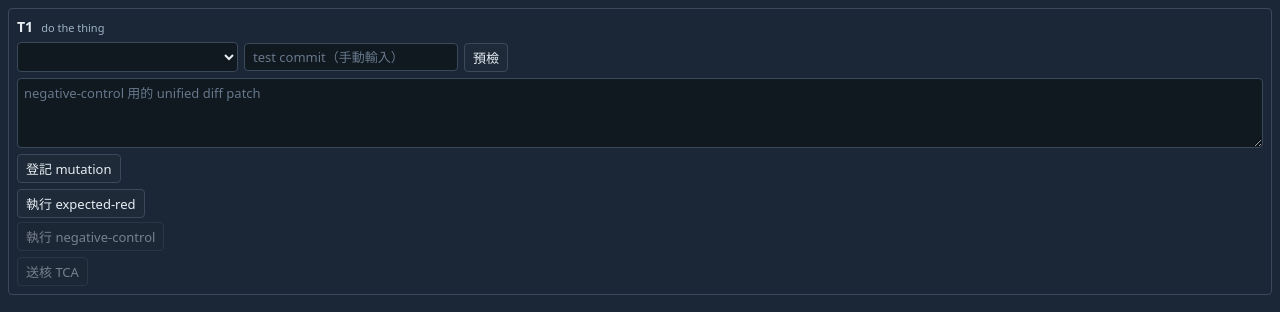
TcaWorkspace › 預檢失敗顯示錯誤原文
The width and height of the screenshot is (1280, 312).
In the field with test id "test-commit-input-T1": [351, 57] box [244,43,458,71], type "cafebabe"
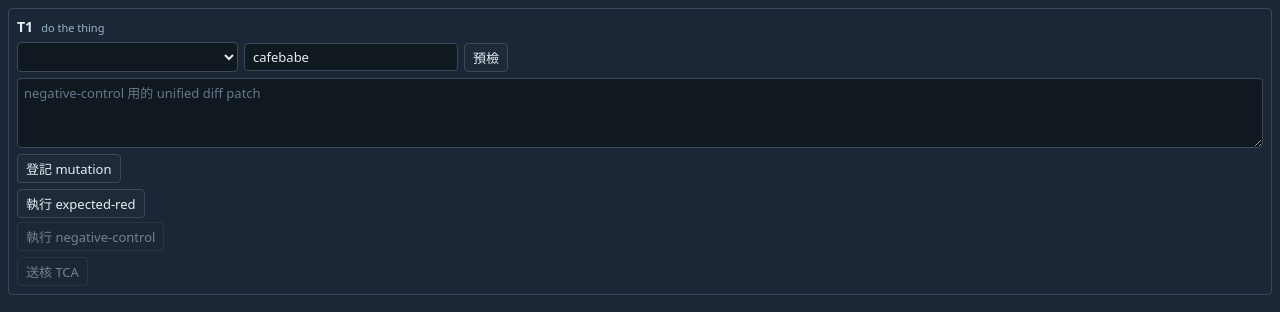
Click the button with test id "precheck-T1": [486, 57] box [464,42,508,72]
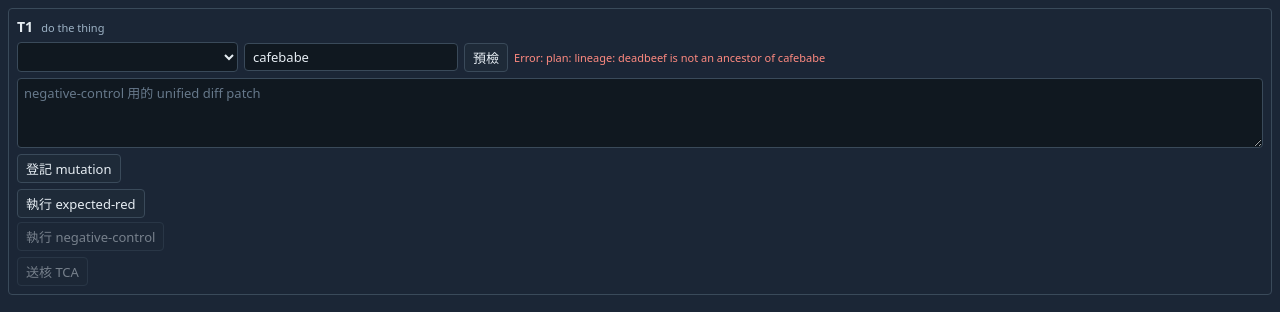
Check: the text with test id "precheck-error-T1" shows "plan: lineage: deadbeef is not an ancestor of cafebabe", box [514,50,825,64]
